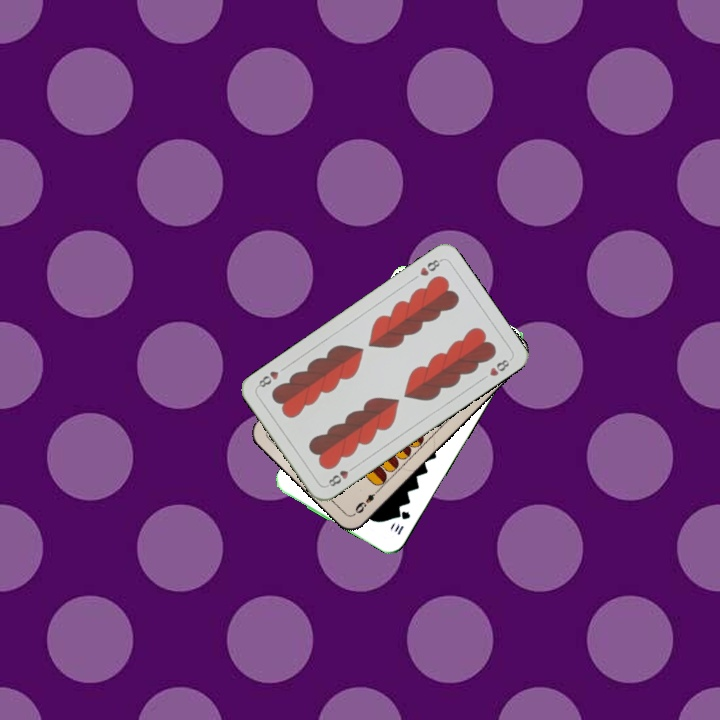E9: (351, 485, 382, 516)
G10: (389, 507, 413, 538)
H8: (322, 462, 358, 489), (416, 255, 444, 279)
